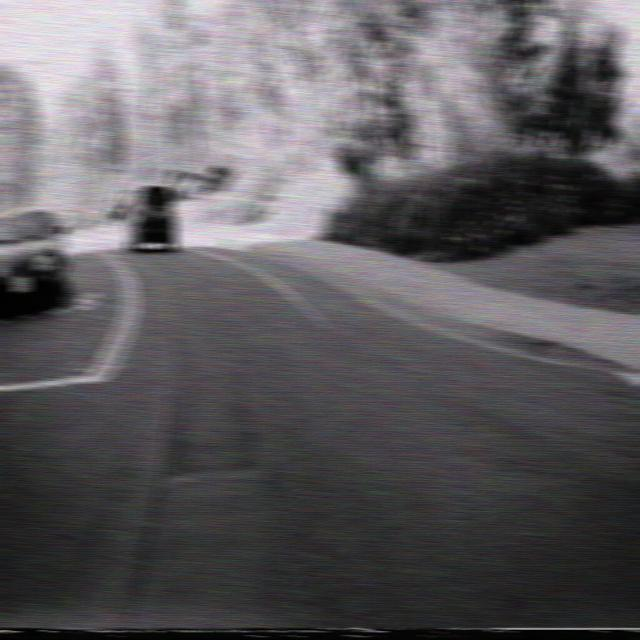pedestrianCrossing: (114, 158, 136, 193)
